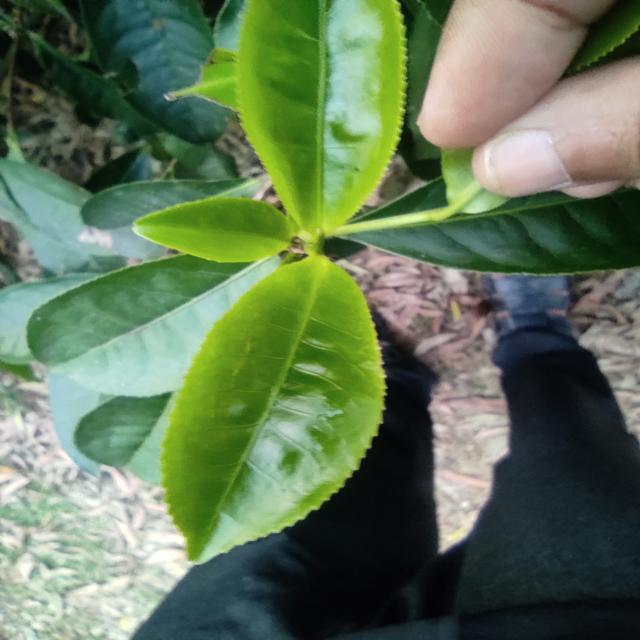Category C 4-7 days: (104, 193, 443, 589)
